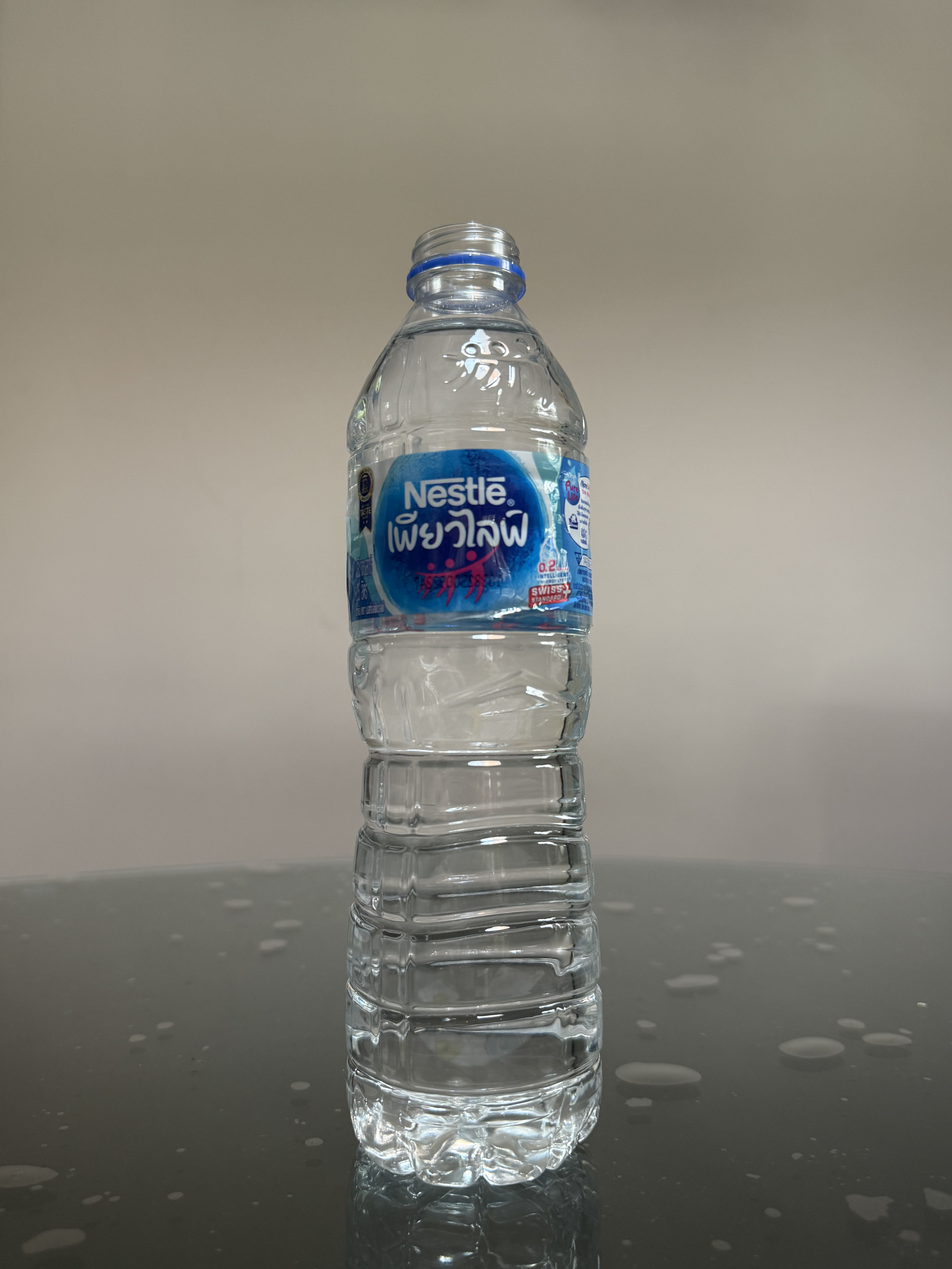no_cap: (404, 221, 527, 297)
